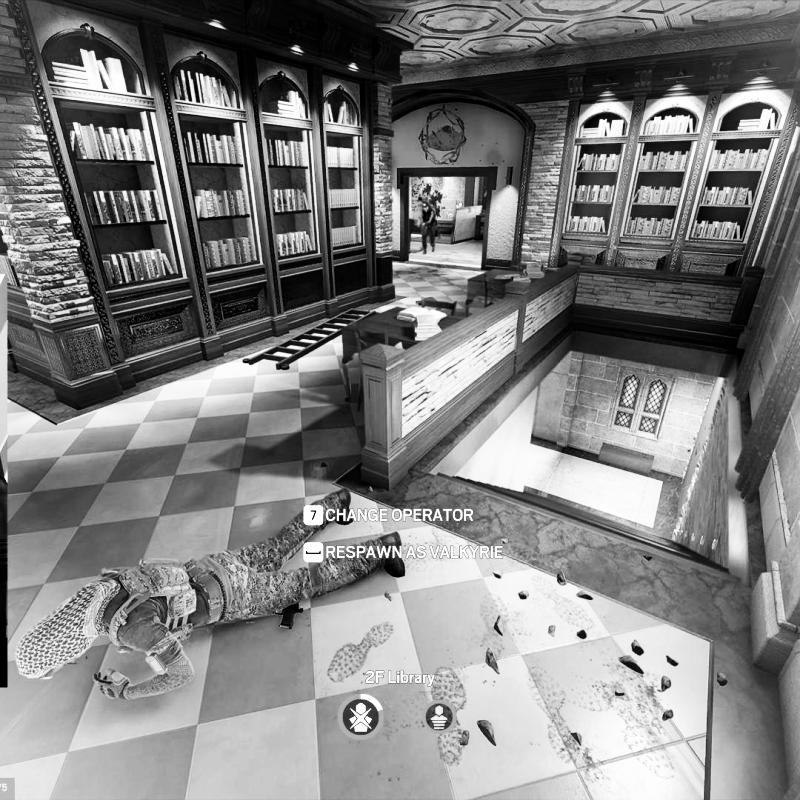Character: (14, 486, 409, 701), (420, 197, 438, 256)
Head: (19, 598, 96, 681), (422, 201, 430, 211)
